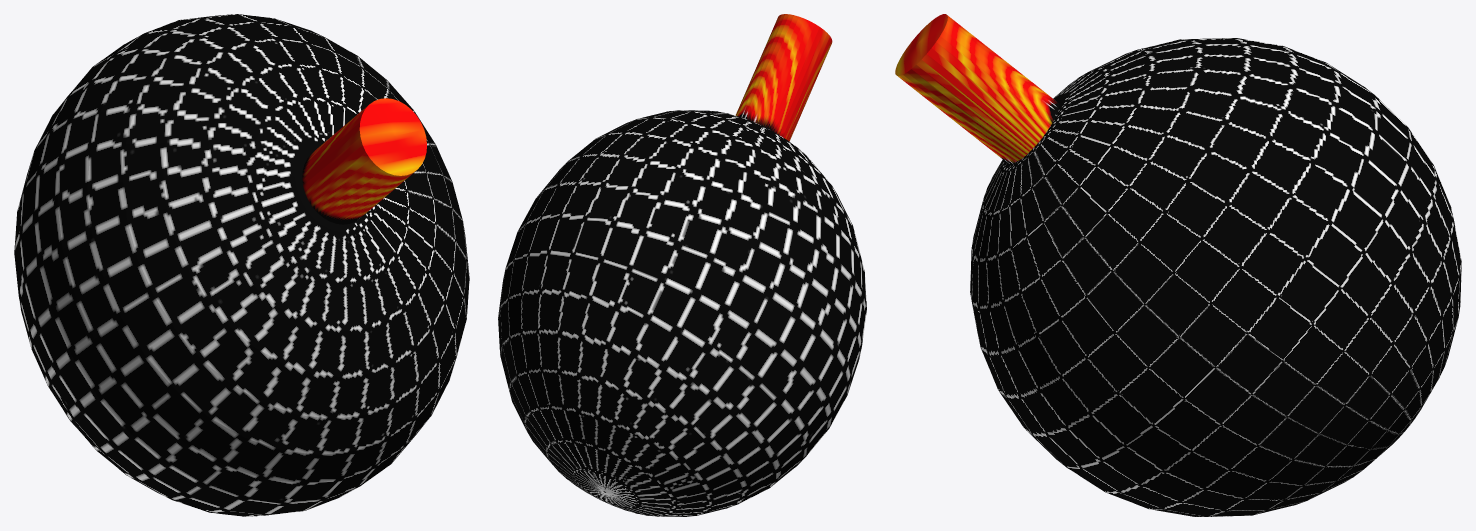
Rendered from bomb.obj.
3 views of the same model, side by side, from view 1: azimuth 30°, elevation 25°; view 2: azimuth 150°, elevation 25°; view 3: azimuth 270°, elevation 25° (orthographic). The views are drawn at different scales.
Visible parts, largest first — view 1: Sphere; view 2: Sphere; view 3: Sphere.
Part boxes in pixels (x1=…): Sphere: x1=14, y1=14, x2=469, y2=516; Sphere: x1=498, y1=14, x2=866, y2=516; Sphere: x1=895, y1=14, x2=1461, y2=516.
Size of the model in its own units: 0.96 by 1.2 by 1.28.
1 material, 1 textured.
